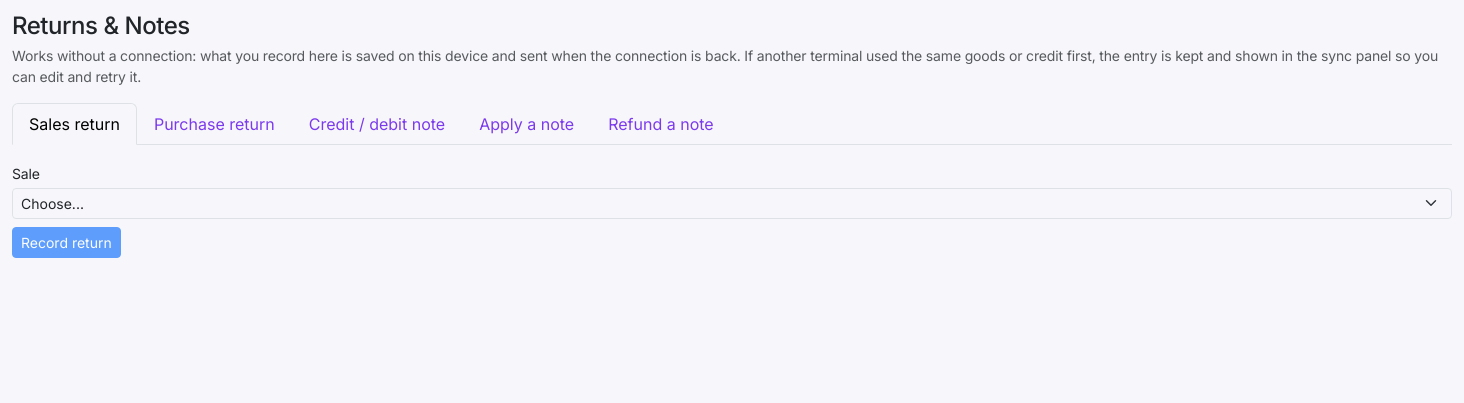
Scenario: Returns & Notes (offline) › records a sales return with no connection: saved on the device, stock goes back on the shelf, and what is left to return shrinks
The width and height of the screenshot is (1464, 403).
Select "INV-1 - Walk-in - Rs. 30.00" in the dropdown labelled "Sale": (732,203) [12,188,1452,219]
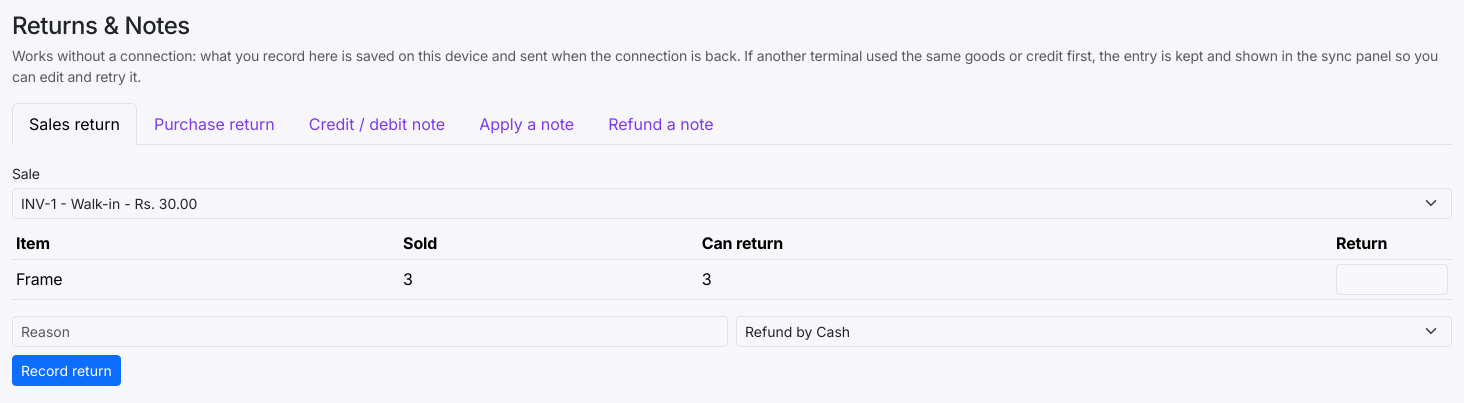
In the number field named "Return Frame": (1392,279) [1336,264,1448,295], type "2"
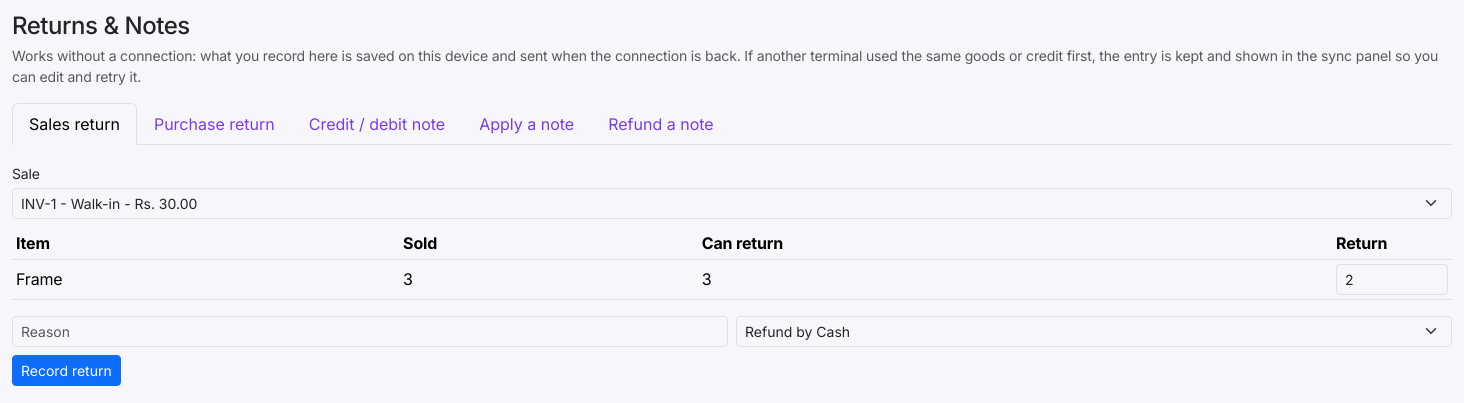
Click the button "Record return": (66,370) [12,355,121,386]
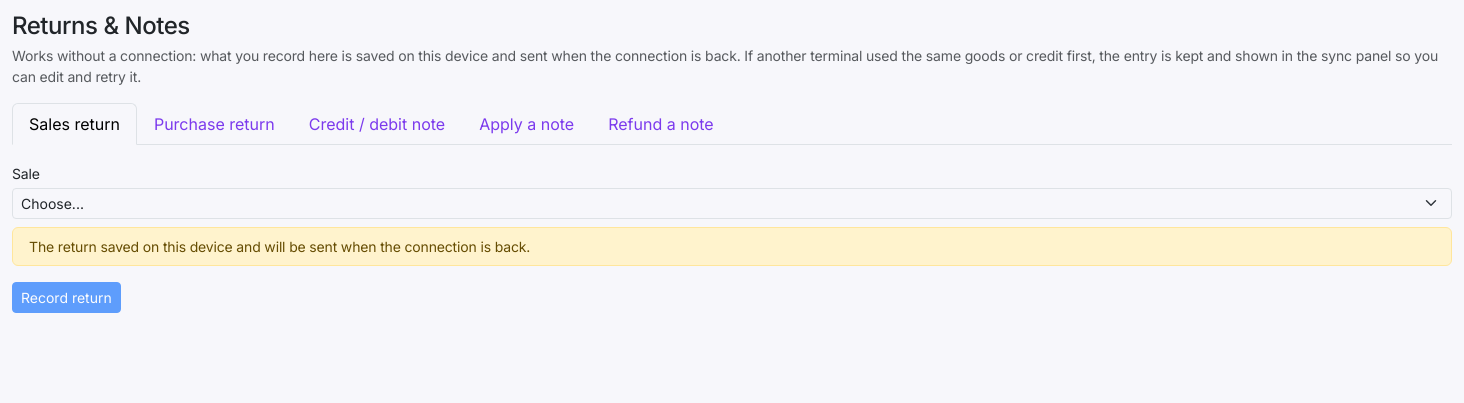
expect the message with test id "submit-result" shows "saved on this device": met, box [29,238,530,255]
